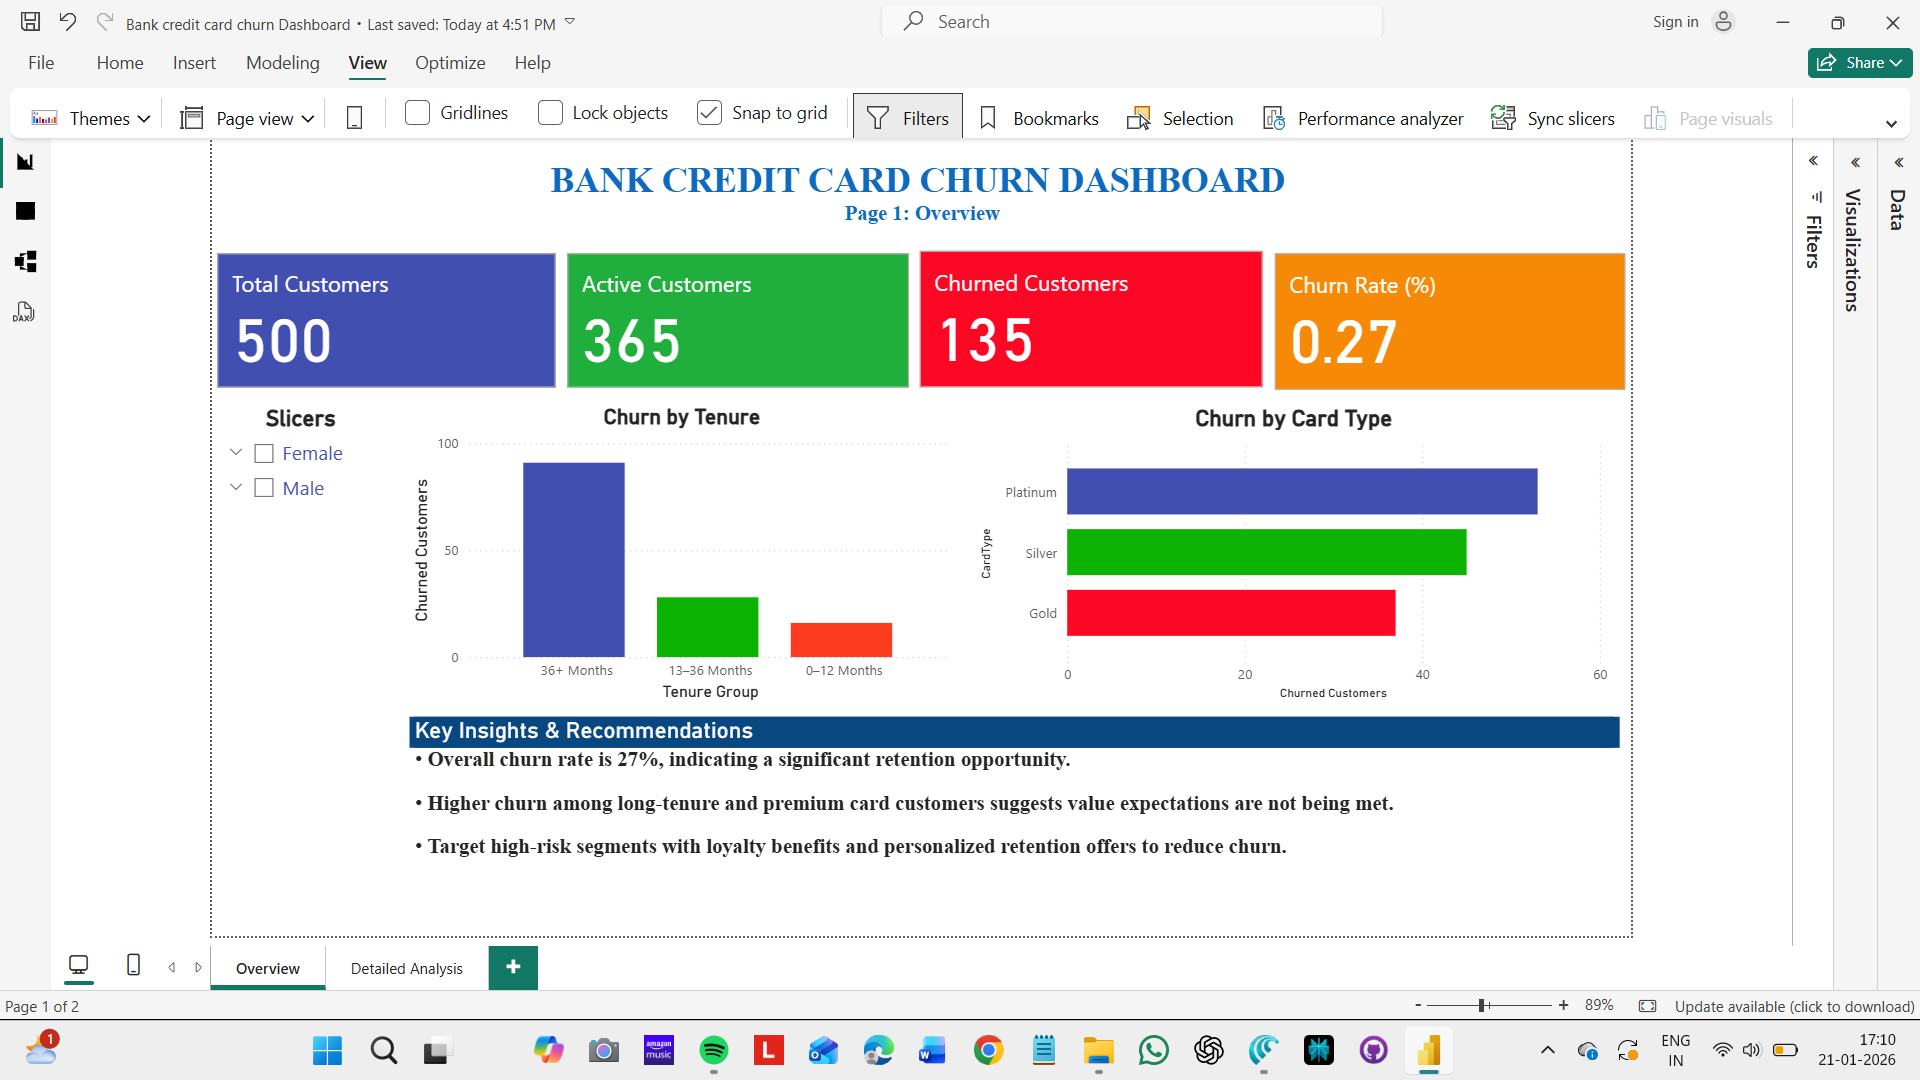

The page's visual inventory and layout, read from the dashboard file:
{"tool":"powerbi","page":{"name":"Overview","canvas":[1280,720],"ordinal":0},"visuals":[{"type":"cardVisual","title":"Total Customers","fields":{"Data":["bank_credit_card_churn_dataset.Total Customers"]},"box":[0,98.8,315.6,131.7],"z":0},{"type":"cardVisual","fields":{"Data":["bank_credit_card_churn_dataset.Churned Customers"]},"box":[634,97.4,319.7,133.1],"z":1000},{"type":"cardVisual","fields":{"Data":["bank_credit_card_churn_dataset.Churn Rate (%)"]},"box":[953.7,98.8,326.6,133.1],"z":2000},{"type":"cardVisual","fields":{"Data":["bank_credit_card_churn_dataset.Active Customers"]},"box":[315.6,98.8,318.4,131.7],"z":3000},{"type":"clusteredColumnChart","title":"Churn by Tenure ","fields":{"Category":["bank_credit_card_churn_dataset.Tenure Group"],"Y":["bank_credit_card_churn_dataset.Churned Customers"]},"box":[176,240,496,272],"z":4000},{"type":"barChart","title":"Churn by Card Type","fields":{"Category":["bank_credit_card_churn_dataset.CardType"],"Y":["bank_credit_card_churn_dataset.Churned Customers"]},"box":[688,240,576,272],"z":5000},{"type":"slicer","title":"Slicers","fields":{"Values":["bank_credit_card_churn_dataset.Gender","bank_credit_card_churn_dataset.CardType","bank_credit_card_churn_dataset.Tenure Group"]},"box":[0,240,160,272],"z":6000},{"type":"textbox","title":"Key Insights & Recommendations","box":[178.4,521.4,1090.9,183.9],"z":7000},{"type":"textbox","box":[11,15.1,1258.3,82.3],"z":9000}]}

Visuals, with their boxes on the page's 1280x720 design canvas (x1, y1, x2, y2). These are canvas units, not pixel positions in the 1920x1080 screenshot, which may show the page scaled, cropped or inside an application window:
"Total Customers" cardVisual: [0, 99, 316, 230]
cardVisual - bank_credit_card_churn_dataset.Churned Customers: [634, 97, 954, 230]
cardVisual - bank_credit_card_churn_dataset.Churn Rate (%): [954, 99, 1280, 232]
cardVisual - bank_credit_card_churn_dataset.Active Customers: [316, 99, 634, 230]
"Churn by Tenure " clusteredColumnChart: [176, 240, 672, 512]
"Churn by Card Type" barChart: [688, 240, 1264, 512]
"Slicers" slicer: [0, 240, 160, 512]
"Key Insights & Recommendations" textbox: [178, 521, 1269, 705]
textbox: [11, 15, 1269, 97]
